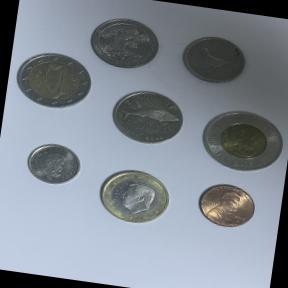coin: (189, 96, 288, 183), (88, 159, 180, 233), (101, 80, 190, 155), (10, 46, 96, 116), (84, 12, 167, 76), (187, 176, 263, 237), (18, 135, 86, 192)
